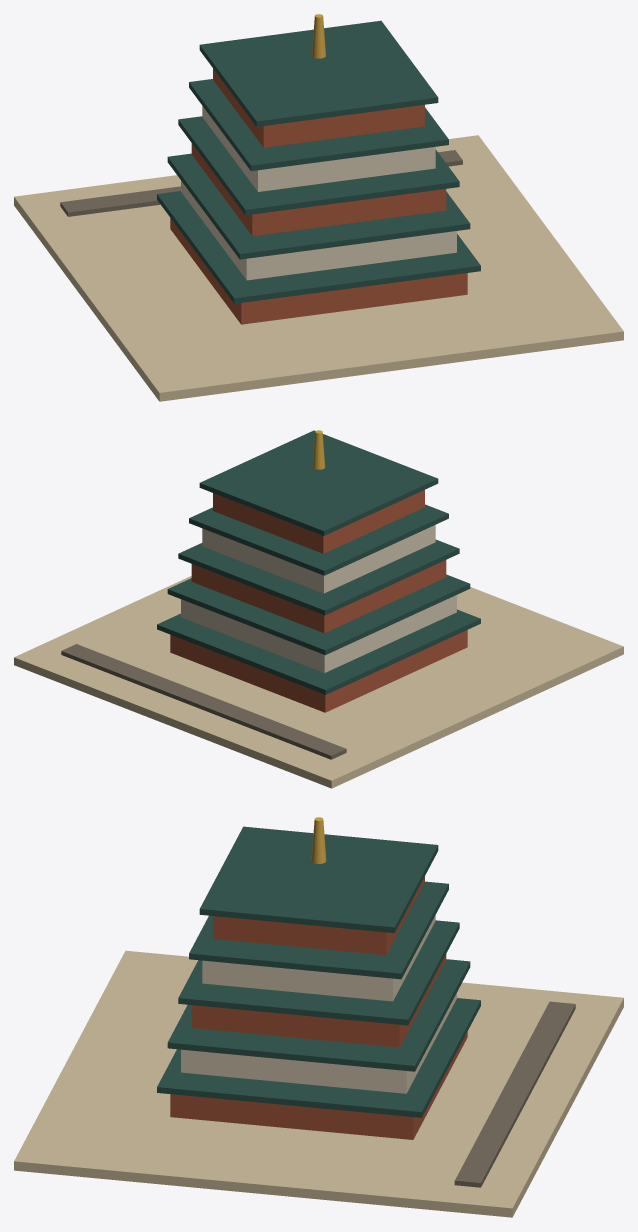
File: model-medium.glb
The picture shows the model from 3 angles, top to bottom: view 1: azimuth 30°, elevation 25°; view 2: azimuth 150°, elevation 25°; view 3: azimuth 270°, elevation 25°; orthographic projection. The views are drawn at different scales.
Visible parts, largest first — view 1: context_site_plinth, pagoda_eave_5, pagoda_eave_1, pagoda_eave_2, pagoda_eave_3, pagoda_eave_4, pagoda_storey_1, pagoda_storey_2, pagoda_storey_3, pagoda_storey_4, pagoda_storey_5, front_scale_strip; view 2: context_site_plinth, pagoda_eave_5, pagoda_eave_1, pagoda_eave_2, pagoda_eave_3, pagoda_eave_4, pagoda_storey_1, pagoda_storey_2, front_scale_strip, pagoda_storey_3, pagoda_storey_4, pagoda_storey_5; view 3: context_site_plinth, pagoda_eave_5, pagoda_eave_1, pagoda_eave_2, pagoda_eave_3, pagoda_eave_4, pagoda_storey_1, pagoda_storey_2, front_scale_strip, pagoda_storey_3, pagoda_storey_4, pagoda_storey_5 (+1 smaller).
Boxes of the visible parts, <box> form: context_site_plinth: <box>14,135,623,401</box>; pagoda_eave_5: <box>199,20,438,126</box>; pagoda_eave_1: <box>157,191,480,303</box>; pagoda_eave_2: <box>167,153,470,259</box>; pagoda_eave_3: <box>178,116,459,215</box>; pagoda_eave_4: <box>189,79,448,171</box>; pagoda_storey_1: <box>170,218,467,324</box>; pagoda_storey_2: <box>181,181,456,280</box>; pagoda_storey_3: <box>191,143,446,236</box>; pagoda_storey_4: <box>202,106,435,191</box>; pagoda_storey_5: <box>213,68,424,147</box>; front_scale_strip: <box>60,150,462,216</box>; context_site_plinth: <box>14,576,623,788</box>; pagoda_eave_5: <box>199,430,438,535</box>; pagoda_eave_1: <box>157,609,480,694</box>; pagoda_eave_2: <box>167,574,470,655</box>; pagoda_eave_3: <box>178,539,459,615</box>; pagoda_eave_4: <box>189,504,448,575</box>; pagoda_storey_1: <box>170,630,467,712</box>; pagoda_storey_2: <box>181,595,456,672</box>; front_scale_strip: <box>61,644,346,759</box>; pagoda_storey_3: <box>191,560,446,633</box>; pagoda_storey_4: <box>202,525,435,593</box>; pagoda_storey_5: <box>213,490,424,553</box>; context_site_plinth: <box>14,950,623,1217</box>; pagoda_eave_5: <box>199,826,438,933</box>; pagoda_eave_1: <box>157,998,480,1117</box>; pagoda_eave_2: <box>167,959,470,1071</box>; pagoda_eave_3: <box>178,920,459,1025</box>; pagoda_eave_4: <box>189,881,448,979</box>; pagoda_storey_1: <box>170,1032,467,1139</box>; pagoda_storey_2: <box>181,993,456,1093</box>; front_scale_strip: <box>454,1001,575,1187</box>; pagoda_storey_3: <box>191,954,446,1047</box>; pagoda_storey_4: <box>202,915,435,1001</box>; pagoda_storey_5: <box>213,876,424,955</box>.
Bounding box in the file's own units: 9.55 × 4.66 × 9.55.
